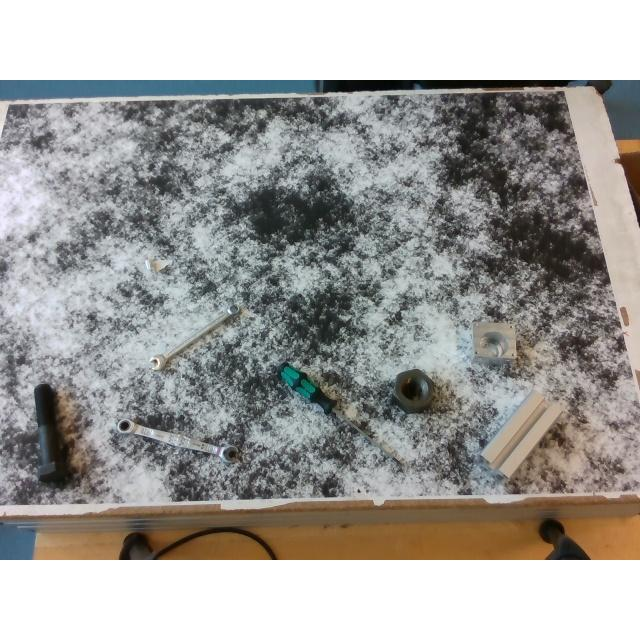M20_100: (34, 383, 66, 481)
M30: (394, 369, 434, 413)
S40_40_G: (481, 390, 565, 478)
Screwdriver: (278, 362, 402, 466)
Wrench: (116, 418, 240, 462)
